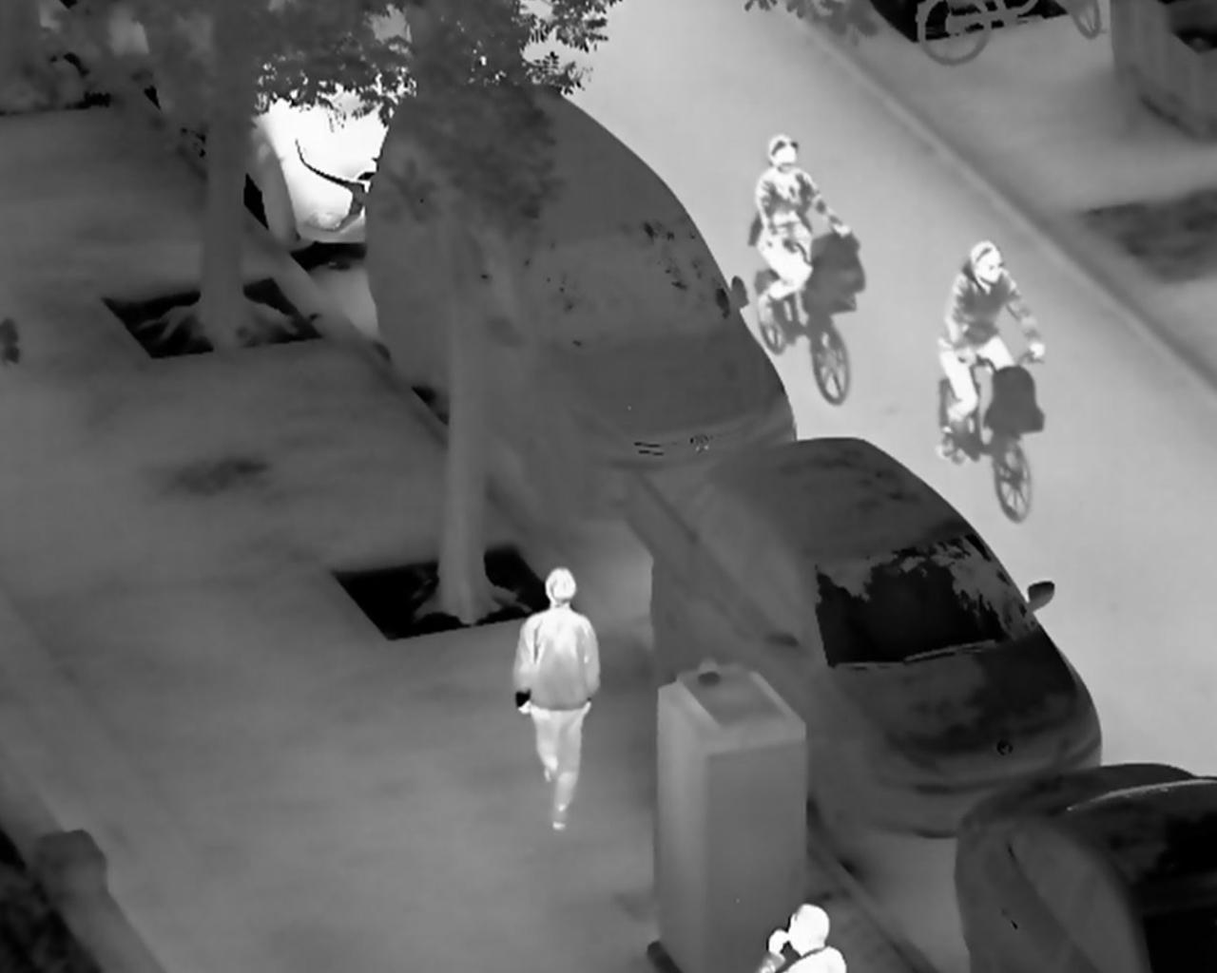person: (936, 239, 1053, 460), (510, 565, 603, 833), (752, 137, 855, 337)
